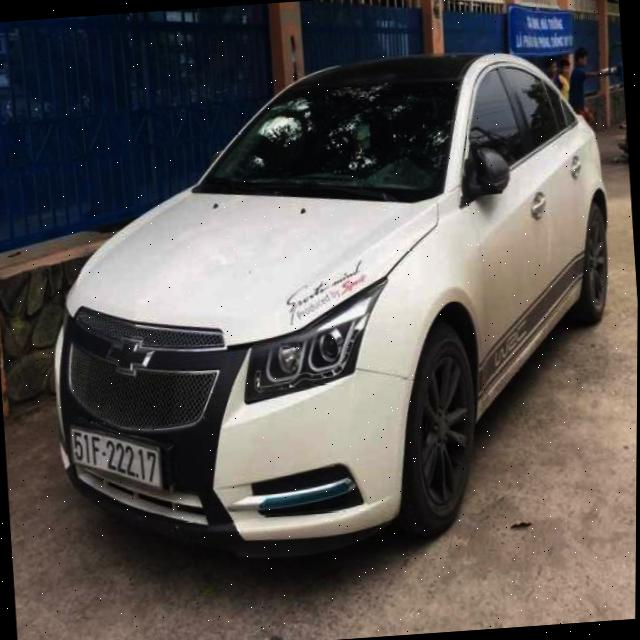car: (9, 25, 640, 591)
plate: (64, 414, 169, 502)
